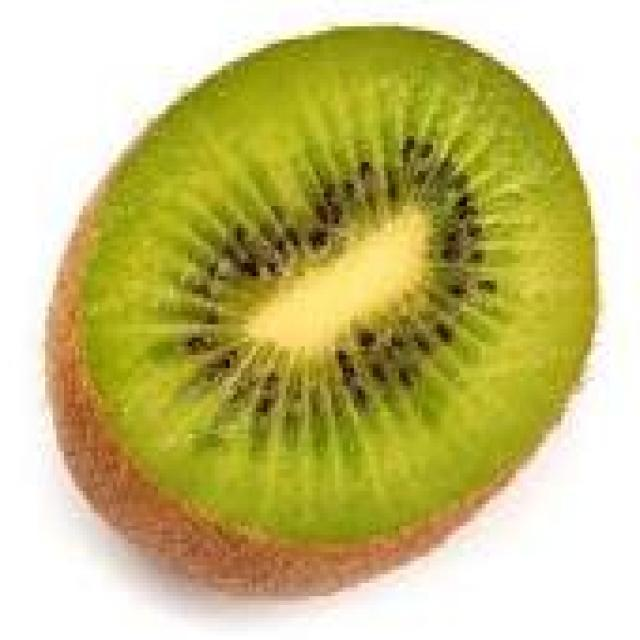kiwi: (45, 9, 614, 583)
